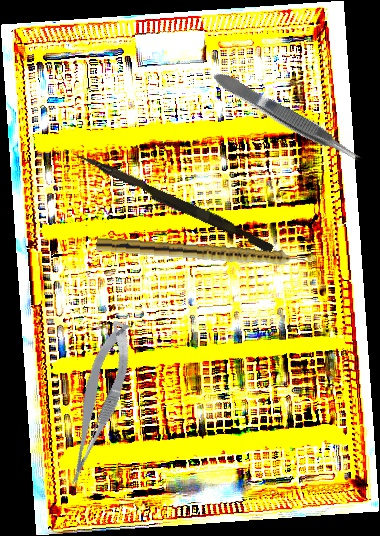Handpiece: (95, 237, 314, 271)
Micro Scissor: (47, 318, 147, 489)
Pusher: (71, 151, 277, 254)
Tissue Forceps: (209, 64, 367, 170)
